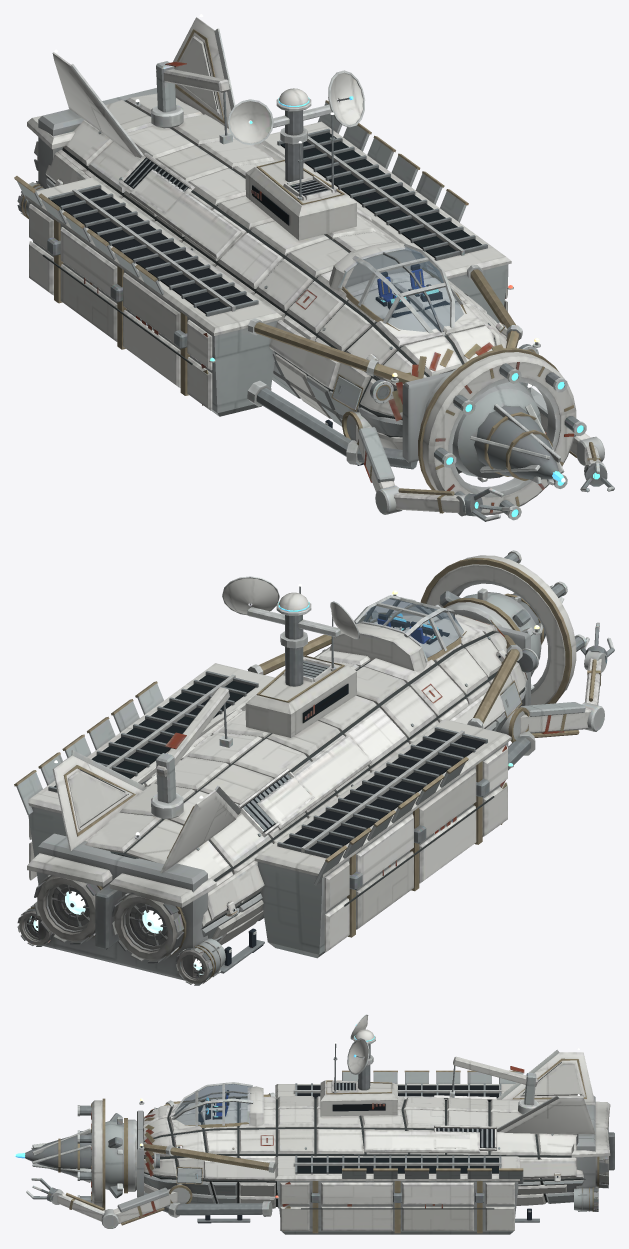
File: prospector_miner.glb
3 renders of one model, top to bottom at view 1: azimuth 30°, elevation 25°; view 2: azimuth 150°, elevation 25°; view 3: azimuth 270°, elevation 25°, orthographic. The views are drawn at different scales.
Parts seen in each view (by area): view 1: prospector_miner_hull, prospector_miner_glass; view 2: prospector_miner_hull, prospector_miner_glass, prospector_miner_plasma; view 3: prospector_miner_hull, prospector_miner_glass.
Boxes of the visible parts, x1,y1,x2,y2 form: prospector_miner_hull: (14, 14, 614, 521); prospector_miner_glass: (345, 246, 463, 331); prospector_miner_hull: (14, 550, 614, 985); prospector_miner_glass: (357, 598, 463, 657); prospector_miner_plasma: (29, 891, 203, 974); prospector_miner_hull: (15, 1014, 614, 1234); prospector_miner_glass: (175, 1084, 251, 1124).
Size of the model in its own units: 9.76 by 8.28 by 24.89.
Materials: 3 (1 with a texture image).
